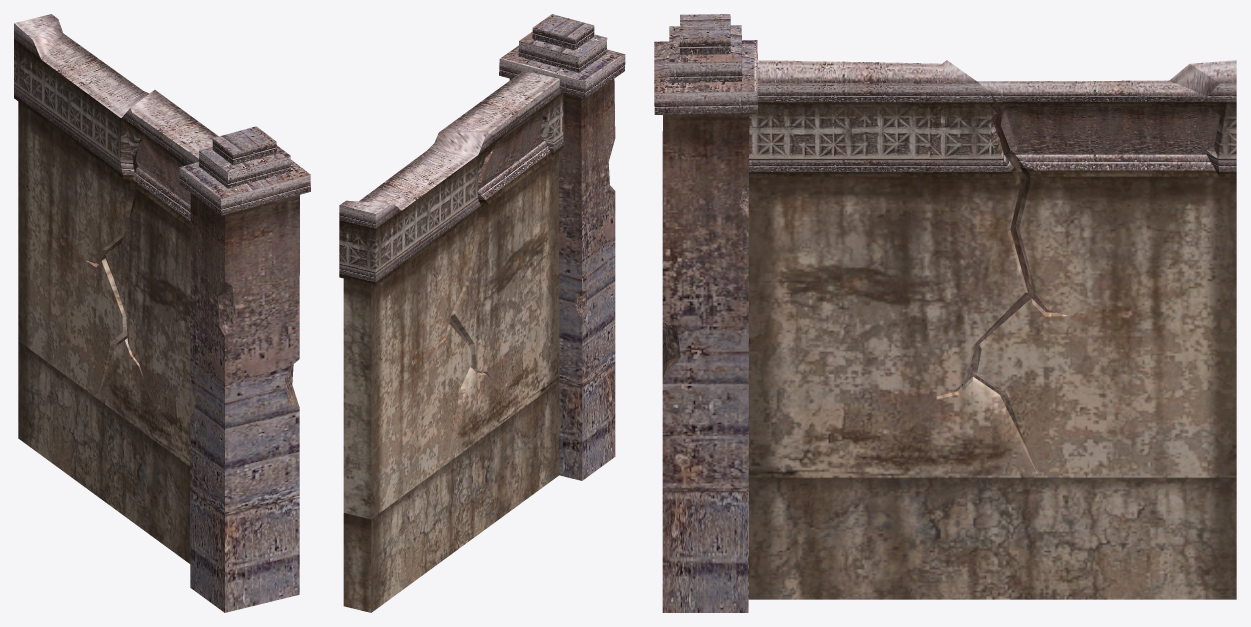
File: MWalB2.glb
3 views of the same model, side by side, from view 1: azimuth 30°, elevation 25°; view 2: azimuth 150°, elevation 25°; view 3: azimuth 270°, elevation 25° (orthographic). The views are drawn at different scales.
Visible parts, largest first — view 1: _MWalB2; view 2: _MWalB2; view 3: _MWalB2.
Part boxes in pixels (bbox=[...]): _MWalB2: bbox=[14, 14, 310, 612]; _MWalB2: bbox=[339, 14, 625, 612]; _MWalB2: bbox=[654, 14, 1236, 612].
Bounding box in the file's own units: 0.9044 × 4.34 × 4.06.
2 materials, 2 textured.
